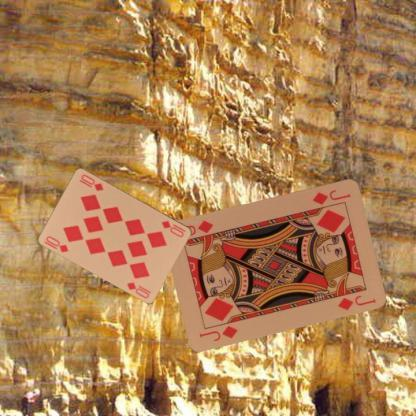10d: (158, 218, 188, 238), (42, 233, 70, 254)
Jd: (197, 322, 240, 342), (310, 186, 352, 206)
